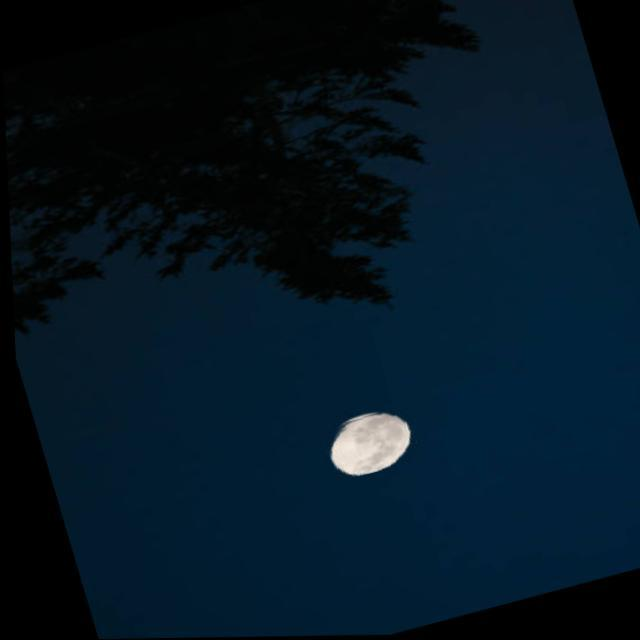moon: (315, 403, 421, 483)
